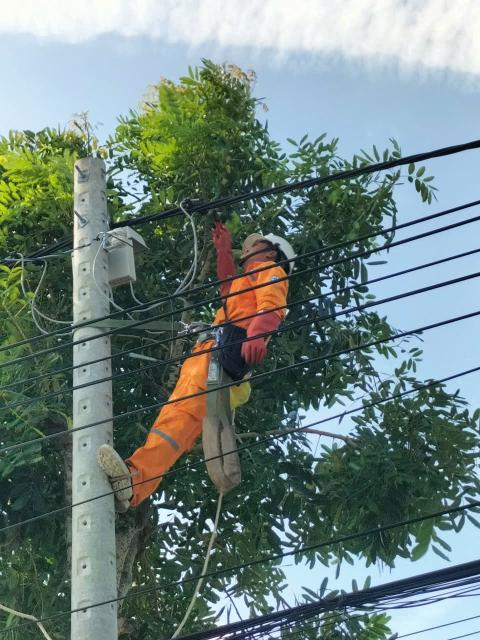gloves: (241, 303, 282, 362), (208, 222, 241, 294)
harness: (176, 315, 248, 355)
helmet: (245, 219, 303, 273)
shoes: (96, 440, 138, 504)
